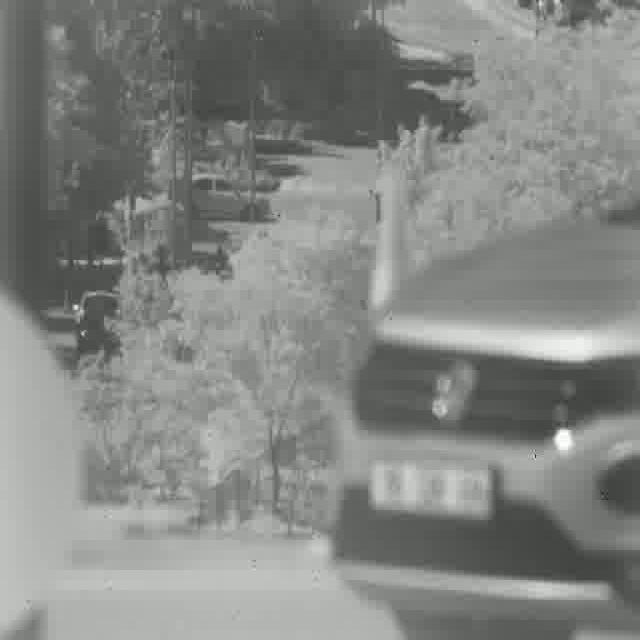Car: (329, 182, 640, 636), (78, 316, 122, 358), (72, 291, 121, 321)
